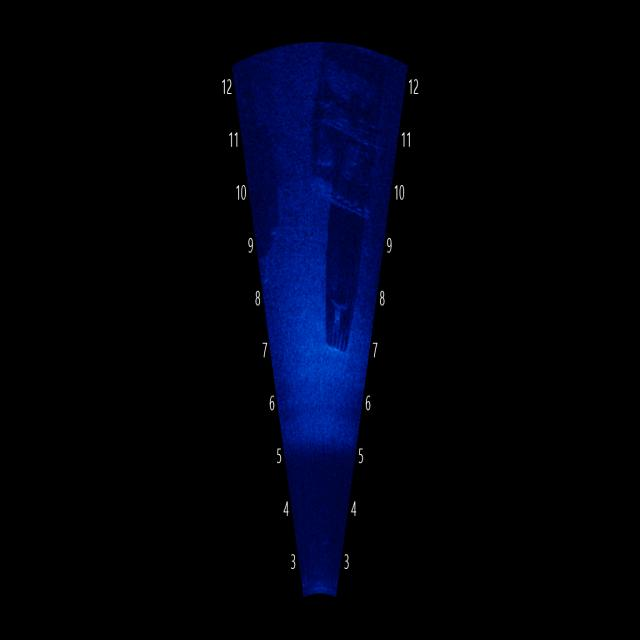square: (297, 51, 389, 223), (318, 219, 360, 368)
